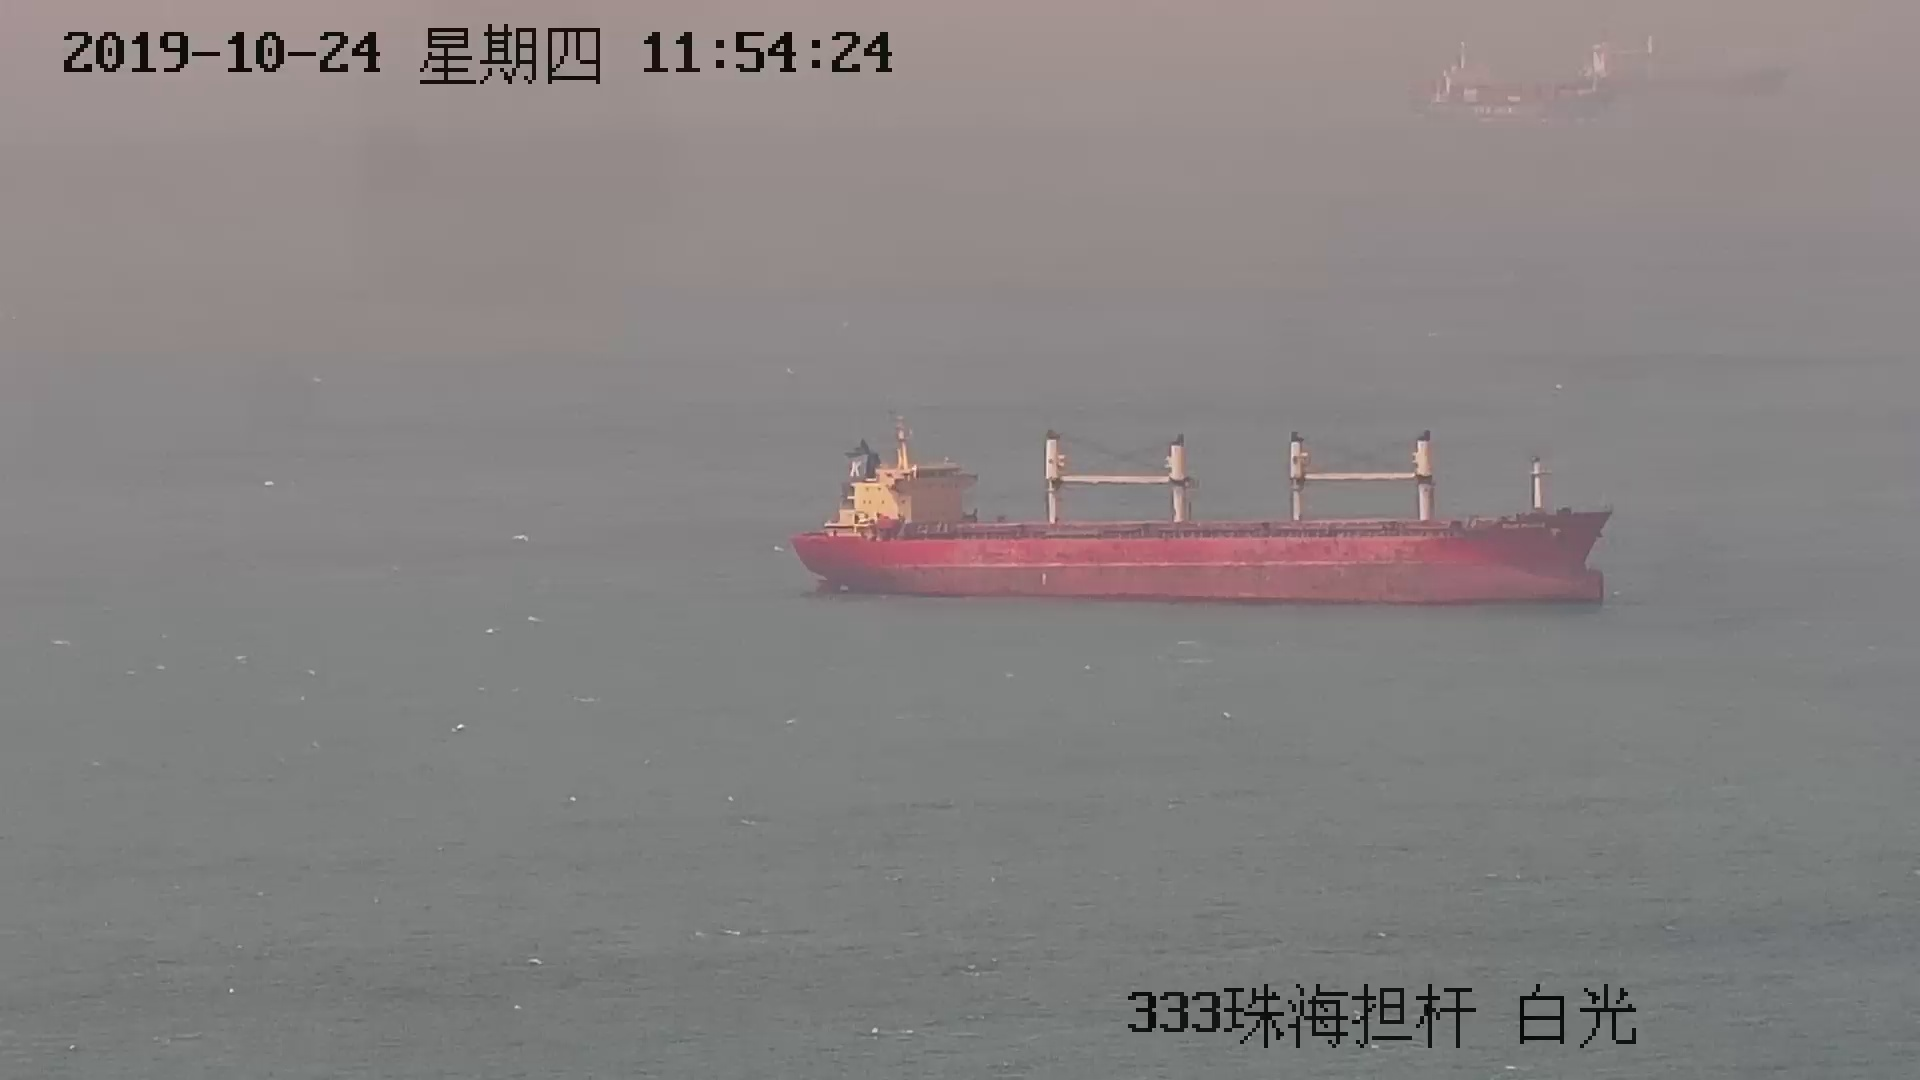ship: (789, 375, 1601, 608)
